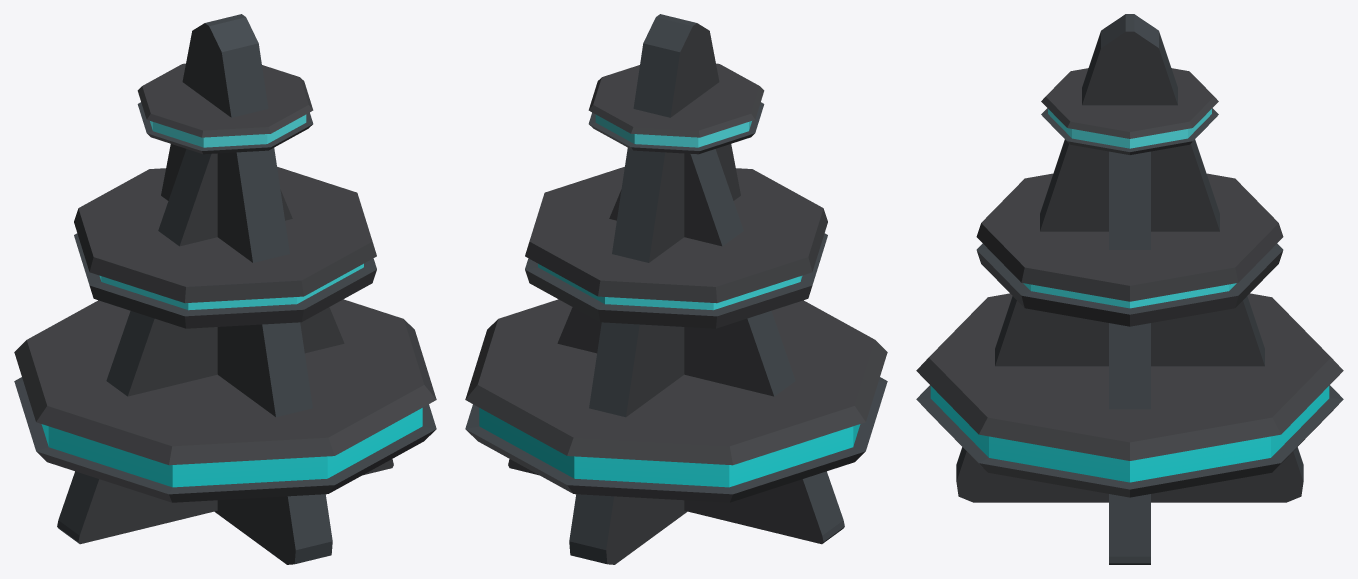
The model's file is LightCylinder_02.glb.
3 views of the same model, side by side, from view 1: azimuth 30°, elevation 25°; view 2: azimuth 150°, elevation 25°; view 3: azimuth 270°, elevation 25° (orthographic). The views are drawn at different scales.
Parts seen in each view (by area): view 1: LightCylinder_02; view 2: LightCylinder_02; view 3: LightCylinder_02.
Boxes of the visible parts, x1=… form: LightCylinder_02: x1=14, y1=14, x2=436, y2=564; LightCylinder_02: x1=465, y1=14, x2=887, y2=564; LightCylinder_02: x1=916, y1=14, x2=1343, y2=564.
Size of what is drawn, in the model's own units: 2.13 by 2.58 by 2.13.
Materials: 1 (1 with a texture image).
